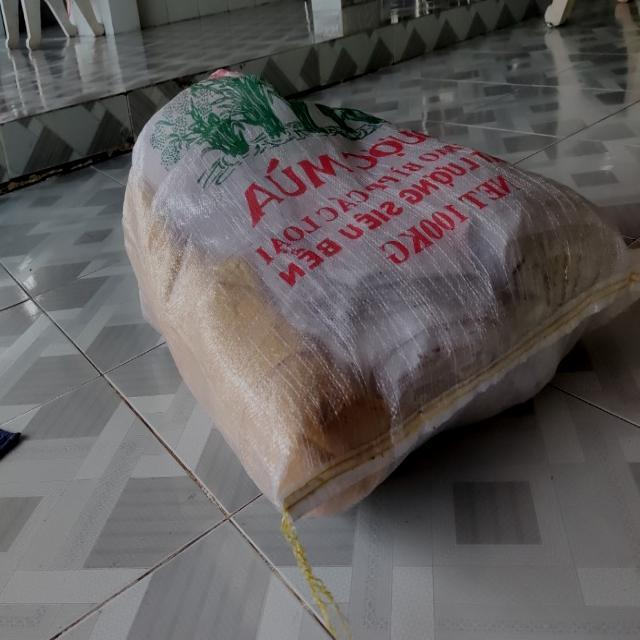gunny_bag: (122, 70, 640, 519)
